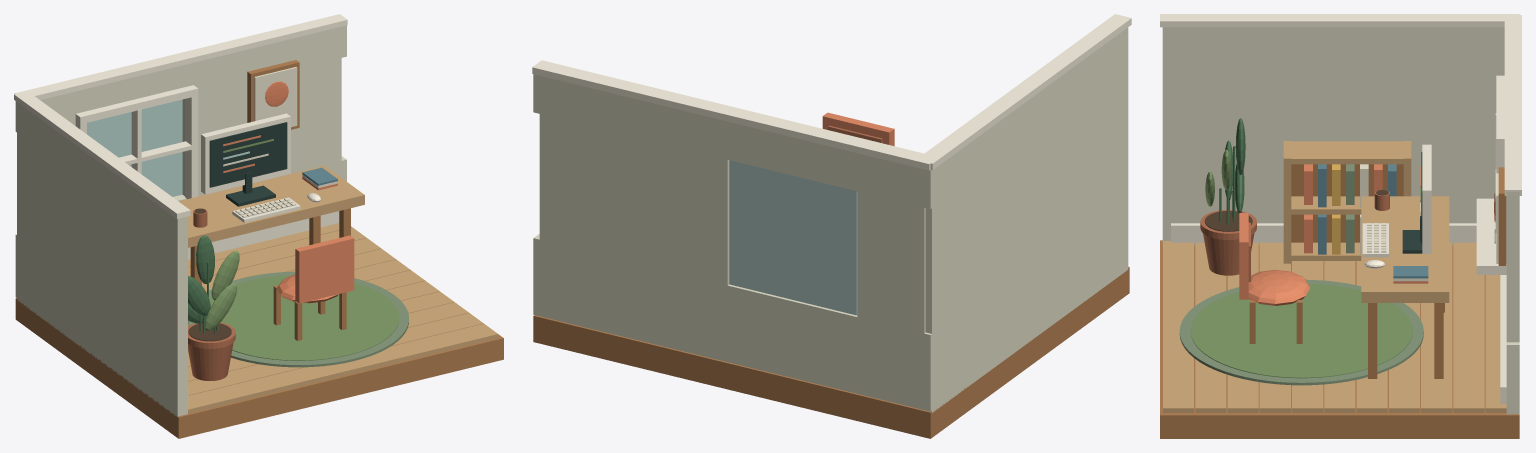
File: atelier.glb
The picture shows the model from 3 angles, left to right: view 1: azimuth 30°, elevation 25°; view 2: azimuth 150°, elevation 25°; view 3: azimuth 270°, elevation 25°; orthographic projection. The views are drawn at different scales.
Visible parts, largest first — view 1: Left wall, Diorama plinth, Rug inner, Back wall upper, Back wall right, Desk top, Oak floor 10, Window blue pane, Back crown, Monitor display, Chair back, Left crown (+31 smaller); view 2: Left wall, Back wall lower, Back wall right, Diorama plinth, Window blue pane, Back wall upper, Back wall left, Back crown, Left crown, Chair back; view 3: Left wall, Rug inner, Diorama plinth, Desk top, Oak floor 01, Left crown, Oak floor 10, Bookcase shelf (×3), Round woven rug, Back crown, Oak floor 02, Bookcase back (+37 smaller).
Part boxes in pixels (x1=…): Left wall: x1=17, y1=102, x2=187, y2=417; Diorama plinth: x1=15, y1=298, x2=503, y2=438; Rug inner: x1=209, y1=275, x2=399, y2=360; Back wall upper: x1=15, y1=25, x2=346, y2=134; Back wall right: x1=182, y1=58, x2=341, y2=195; Desk top: x1=179, y1=165, x2=364, y2=247; Oak floor 10: x1=188, y1=323, x2=498, y2=413; Window blue pane: x1=87, y1=99, x2=182, y2=196; Back crown: x1=14, y1=14, x2=347, y2=99; Monitor display: x1=209, y1=122, x2=287, y2=187; Chair back: x1=295, y1=235, x2=354, y2=303; Left crown: x1=14, y1=94, x2=190, y2=218; Left wall: x1=925, y1=27, x2=1128, y2=412; Back wall lower: x1=533, y1=234, x2=931, y2=411; Back wall right: x1=539, y1=114, x2=729, y2=285; Diorama plinth: x1=533, y1=266, x2=1129, y2=438; Window blue pane: x1=729, y1=160, x2=857, y2=315; Back wall upper: x1=533, y1=74, x2=931, y2=209; Back wall left: x1=857, y1=191, x2=925, y2=333; Back crown: x1=532, y1=60, x2=938, y2=170; Left crown: x1=916, y1=14, x2=1131, y2=170; Chair back: x1=822, y1=112, x2=894, y2=146; Left wall: x1=1162, y1=27, x2=1504, y2=245; Rug inner: x1=1190, y1=283, x2=1412, y2=378; Diorama plinth: x1=1160, y1=240, x2=1519, y2=438; Desk top: x1=1361, y1=196, x2=1449, y2=302; Oak floor 01: x1=1453, y1=242, x2=1484, y2=412; Left crown: x1=1160, y1=14, x2=1519, y2=27; Oak floor 10: x1=1163, y1=241, x2=1193, y2=412; Bookcase shelf (×3): x1=1283, y1=141, x2=1411, y2=260; Round woven rug: x1=1179, y1=279, x2=1423, y2=385; Back crown: x1=1504, y1=15, x2=1521, y2=195; Oak floor 02: x1=1421, y1=242, x2=1452, y2=412; Bookcase back: x1=1291, y1=164, x2=1403, y2=242.
Bounding box in the file's own units: 3.82 × 2.52 × 3.32.
